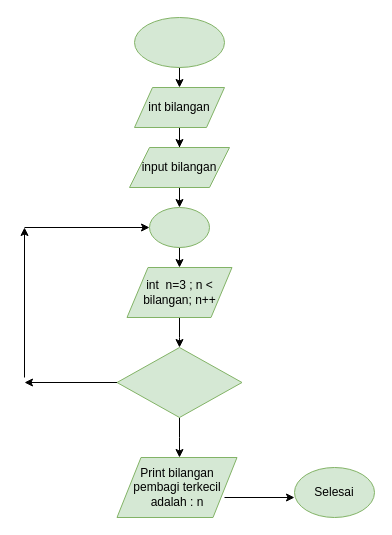
This 392x535 diagram has some shape labels left out. The shapes that lost their labels are listed below. From the top down, each one's centre as x and y in pixels, then its label:
point (179, 42): Mulai
point (179, 227): Loop
point (179, 382): if (bilangan %n == 0)
